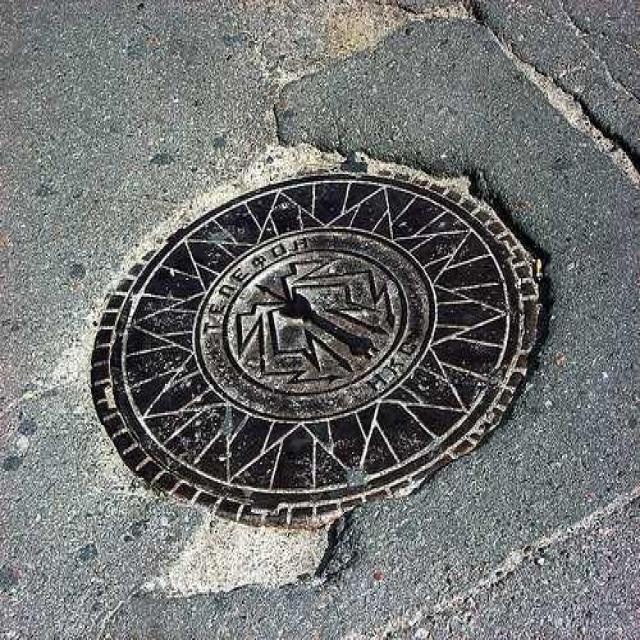manhole: (91, 172, 539, 526)
